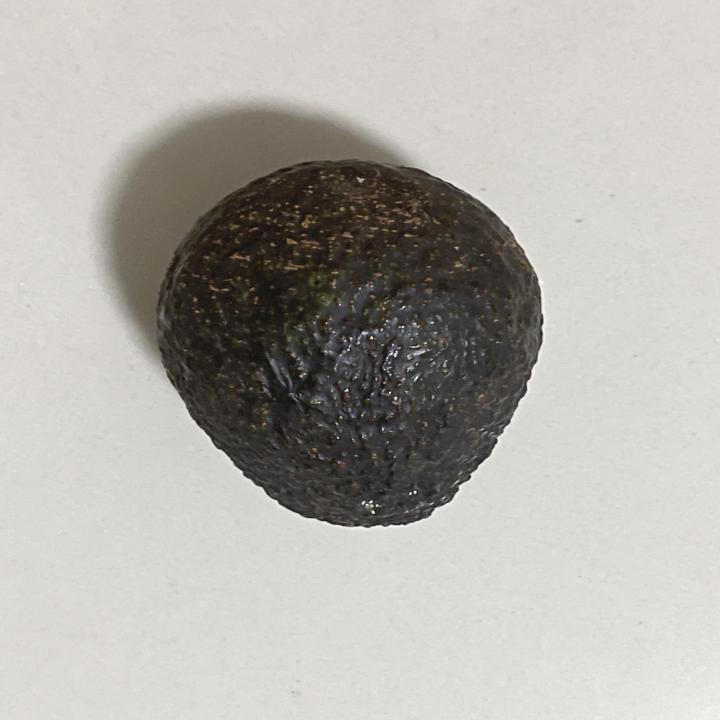Level2: (146, 158, 556, 532)
